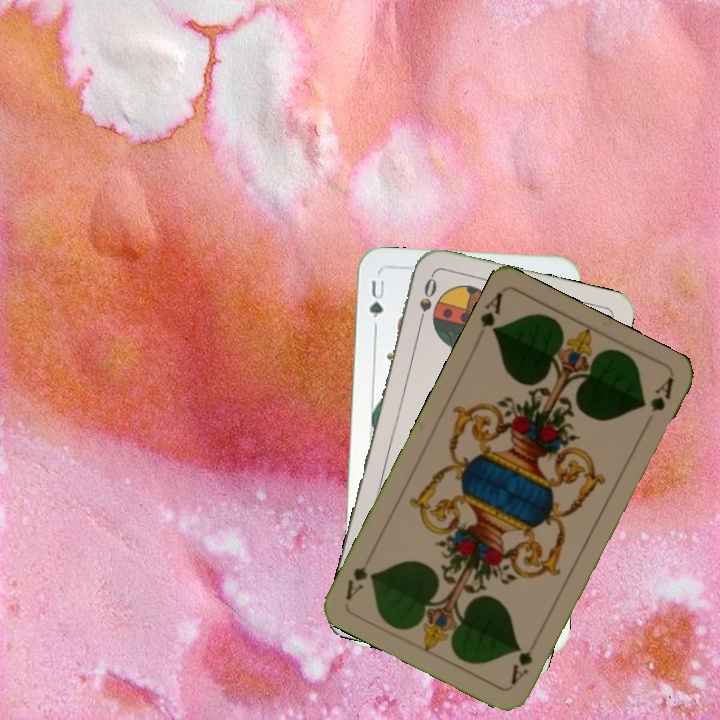GA: (506, 633, 541, 688), (476, 288, 505, 339)
GU: (365, 274, 387, 322)
SO: (414, 272, 440, 330)
